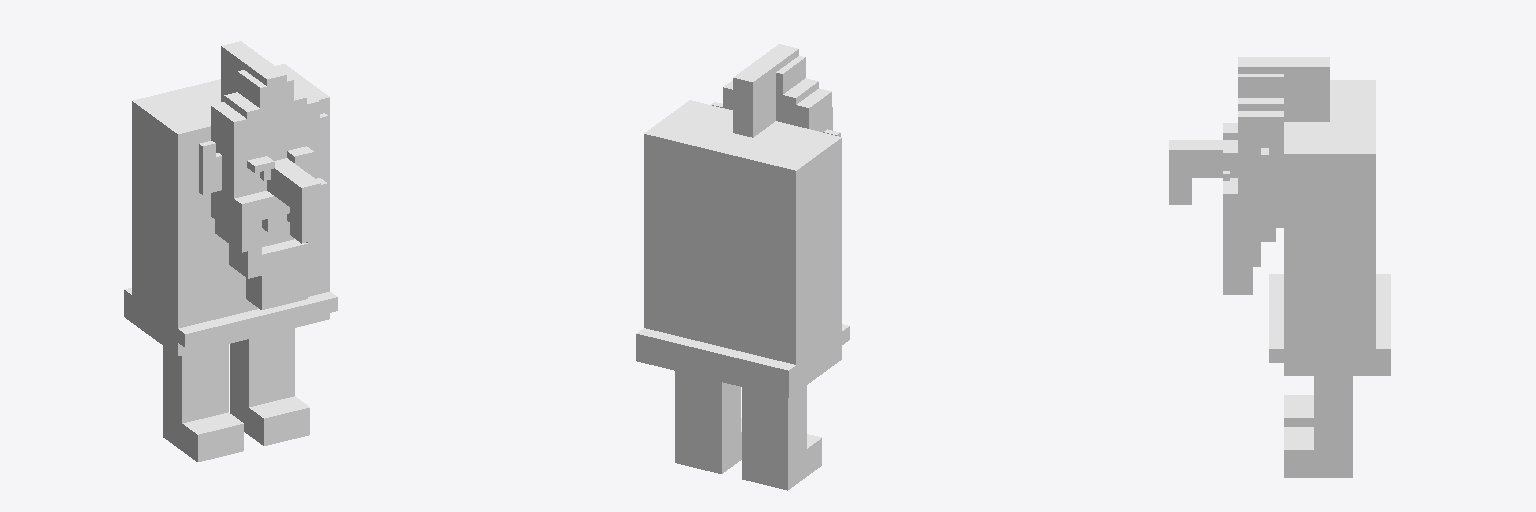
File: bodygoblin.obj
3 renders of one model, left to right at view 1: azimuth 30°, elevation 25°; view 2: azimuth 150°, elevation 25°; view 3: azimuth 270°, elevation 25°, orthographic.
Size of the model in its own units: 23 by 56 by 29.